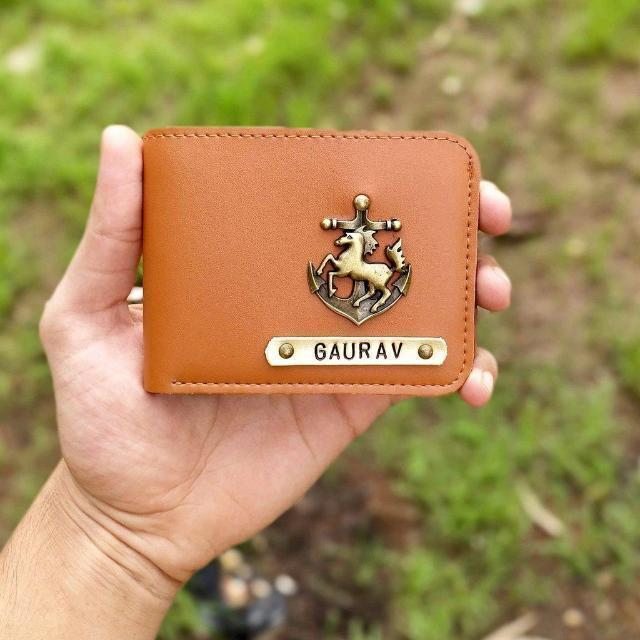wallet: (136, 122, 476, 398)
